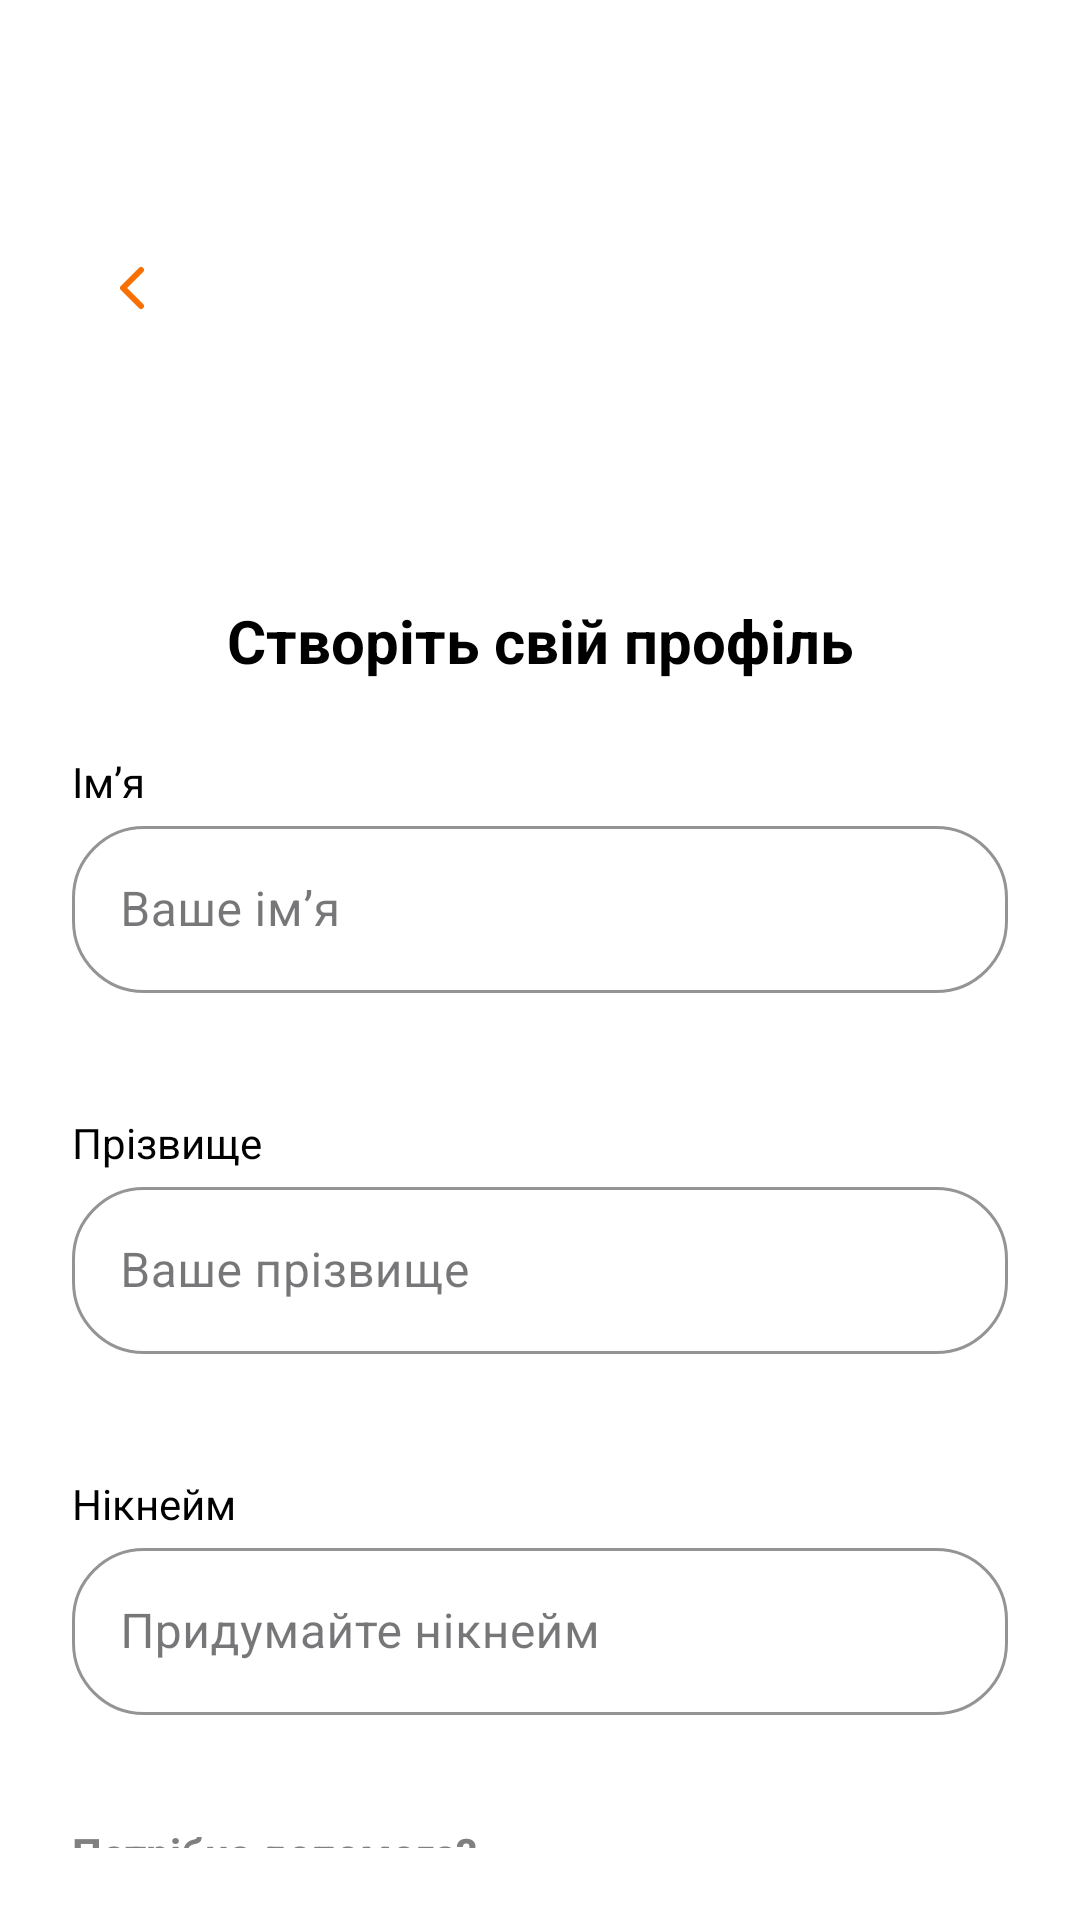

Where to tap for icons on this 1080 × 1920 app screen, as (x,y):
back: (132,288)
